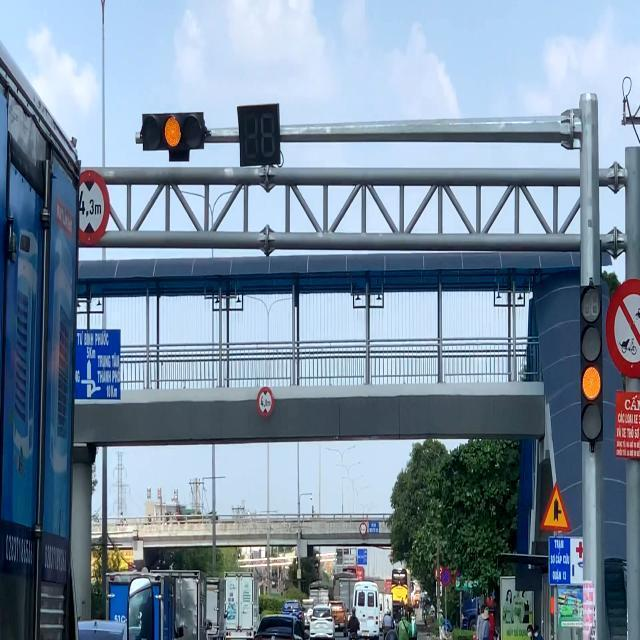207-giao-nhau-voi-duong-khong-uu-tien: (540, 482, 570, 532)
